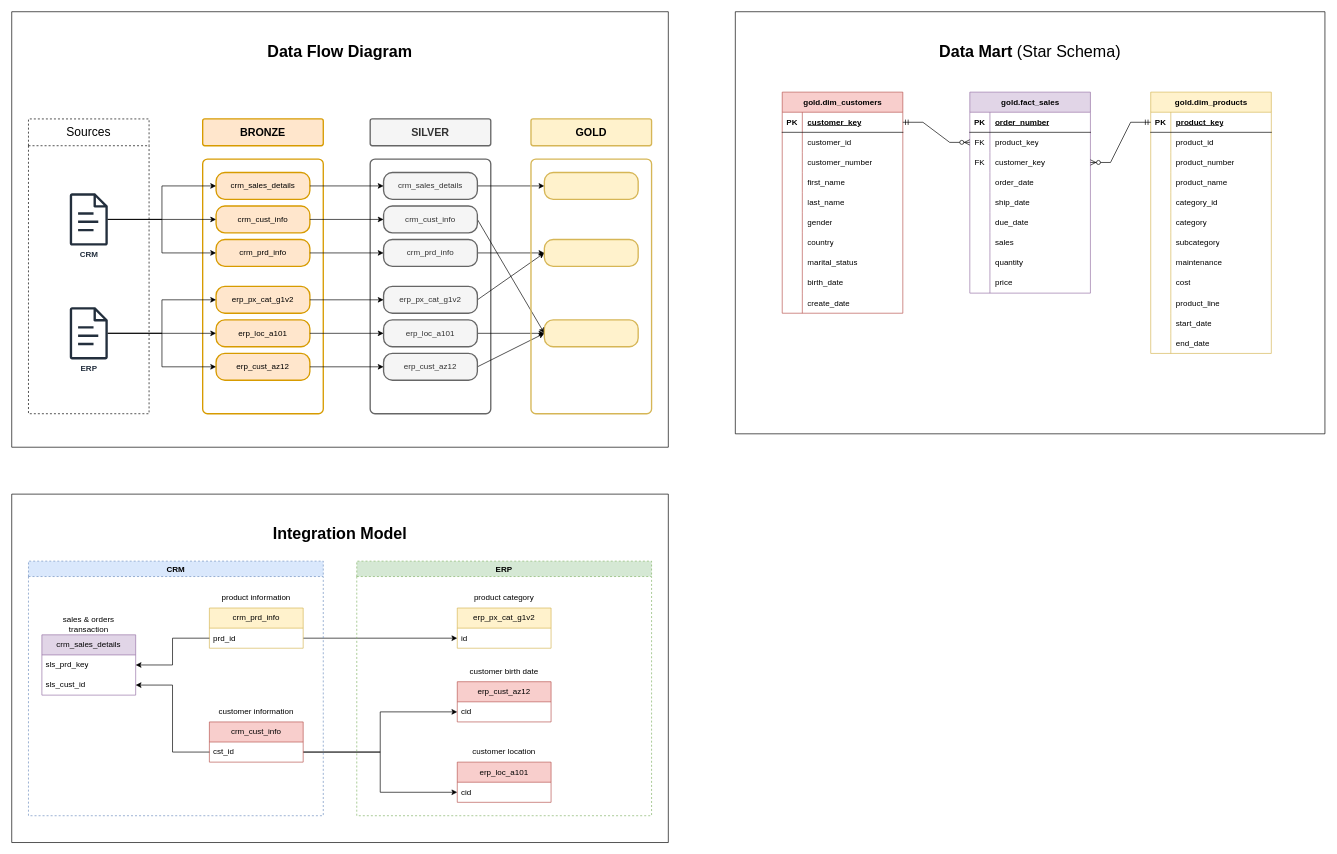
Some shapes in this 1337 by 854 pixel diagram are drawn without their labels. Each missing label, with the centre of its shape:
"dim_customers" goes at pixel 591 333.
"dim_products" goes at pixel 591 253.
"fact_sales" goes at pixel 591 186.
